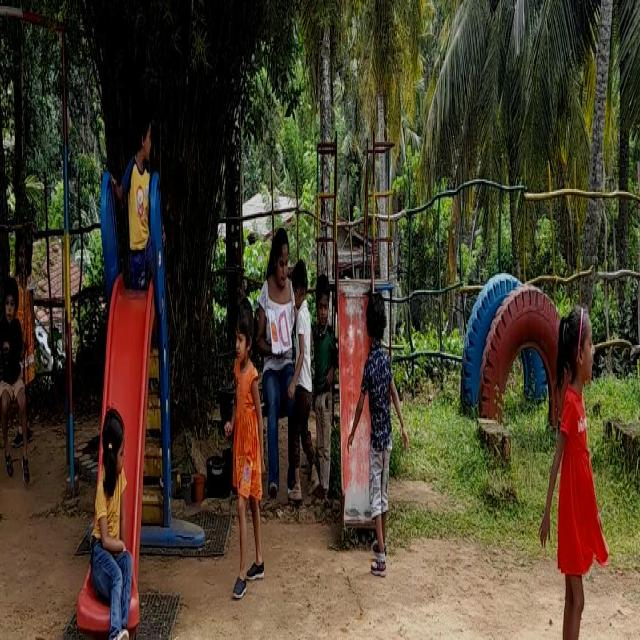adult: (259, 226, 295, 484)
child: (544, 296, 606, 640), (80, 410, 139, 640), (362, 264, 404, 560), (228, 309, 256, 604), (0, 272, 33, 466), (127, 119, 156, 282), (294, 261, 312, 488), (316, 264, 331, 506)
